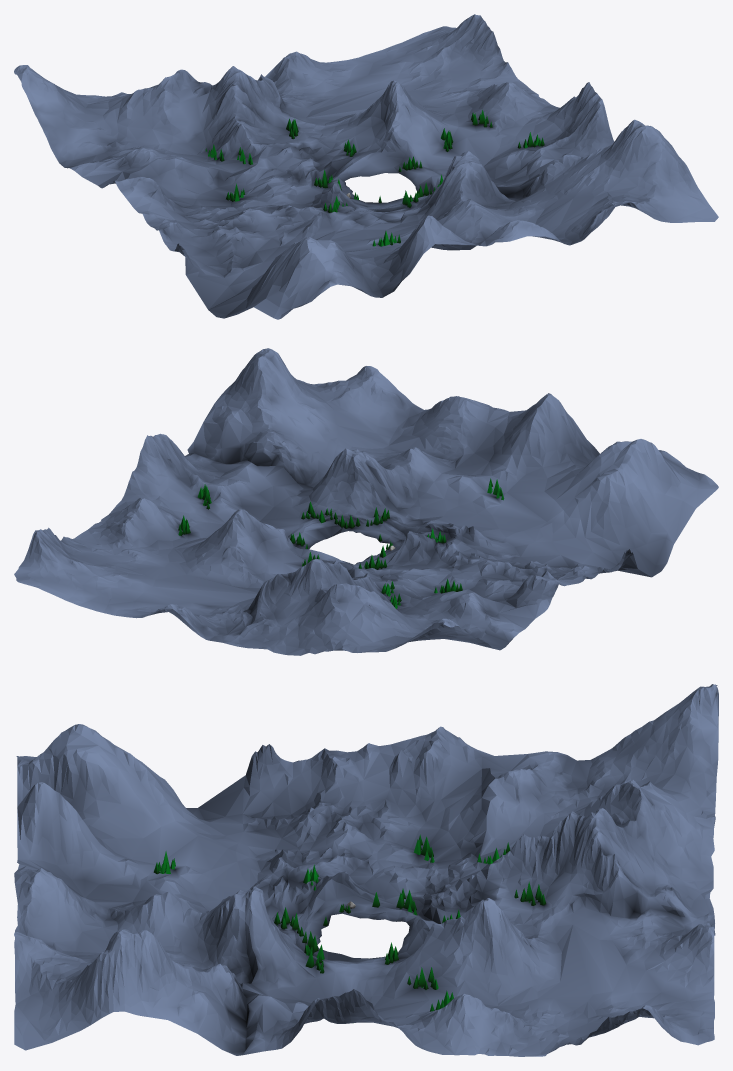
File: AllSky_DemoEnvironment.fbx
3 views of the same model, one above another, from view 1: azimuth 30°, elevation 25°; view 2: azimuth 150°, elevation 25°; view 3: azimuth 270°, elevation 25° (orthographic). The views are drawn at different scales.
Parts seen in each view (by area): view 1: AllSky_DemoEnvironment; view 2: AllSky_DemoEnvironment; view 3: AllSky_DemoEnvironment.
Part boxes in pixels (x1,y1,x2,y2): AllSky_DemoEnvironment: (14,14,718,319); AllSky_DemoEnvironment: (14,348,718,655); AllSky_DemoEnvironment: (14,684,718,1056).
Bounding box in the file's own units: 1509 × 340 × 1559.
